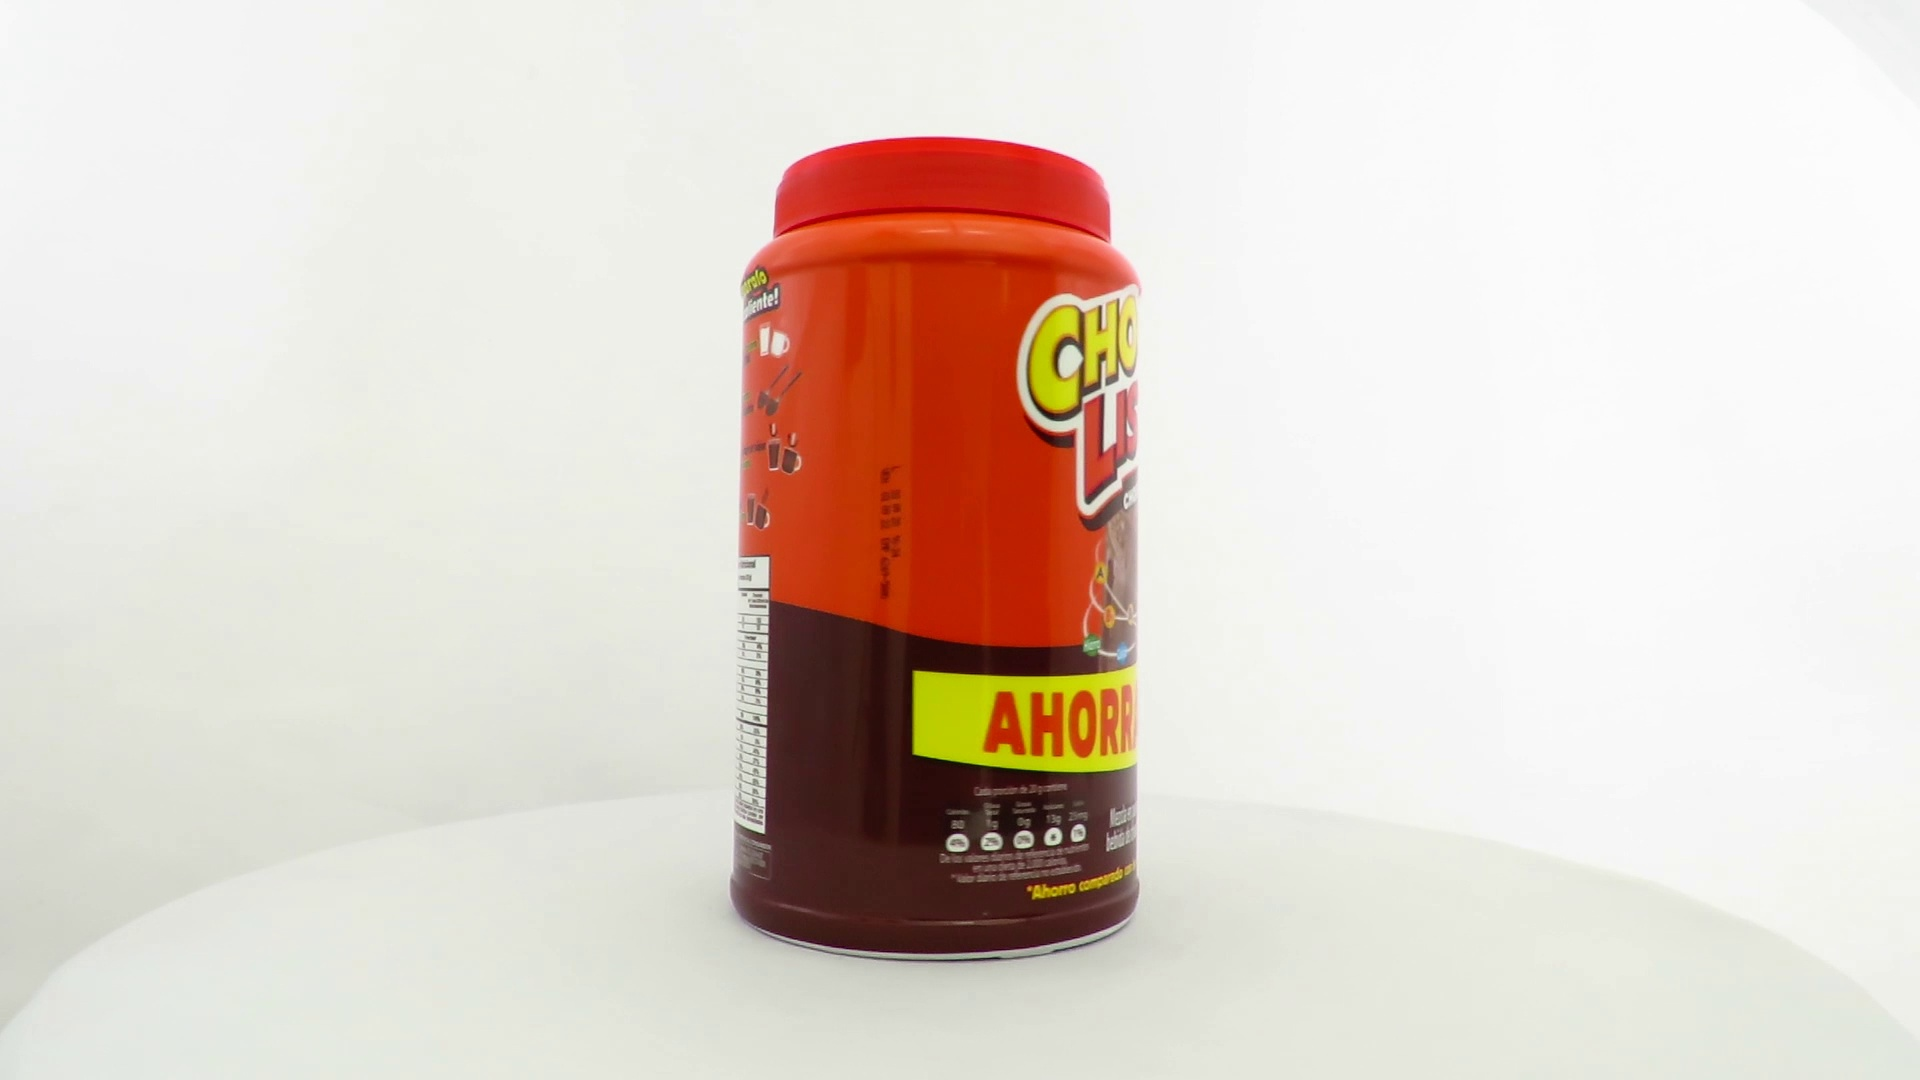COL0170103TRR00100: (724, 131, 1149, 968)
